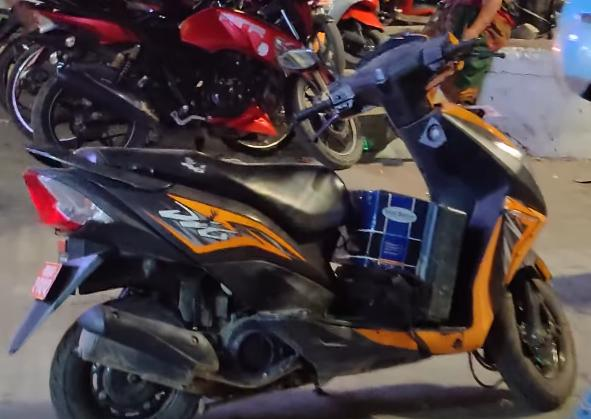scooter: (8, 21, 585, 419)
